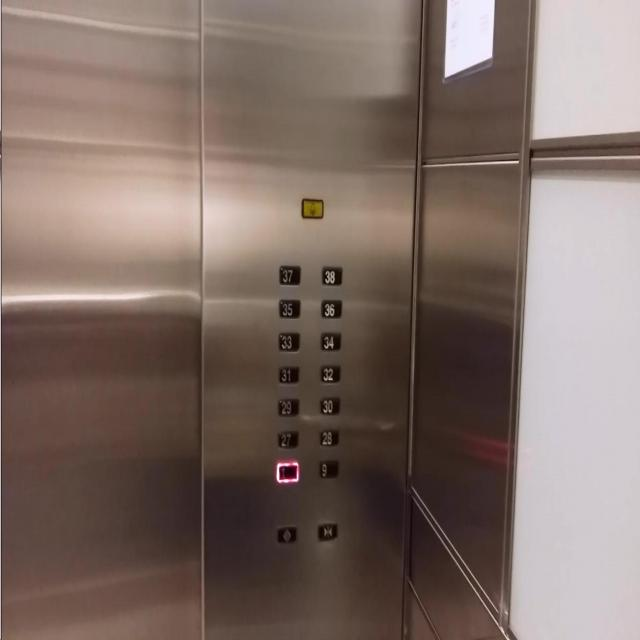1: (275, 460, 300, 484)
27: (277, 430, 298, 448)
28: (318, 426, 338, 446)
29: (276, 396, 299, 416)
30: (319, 395, 340, 416)
31: (278, 364, 298, 384)
32: (320, 362, 340, 383)
33: (278, 332, 300, 352)
34: (320, 330, 342, 352)
35: (278, 298, 300, 318)
36: (320, 298, 342, 319)
37: (278, 263, 302, 287)
38: (321, 264, 343, 288)
9: (317, 458, 338, 479)
alarm: (300, 197, 324, 219)
close: (317, 518, 338, 541)
open: (276, 525, 297, 543)
